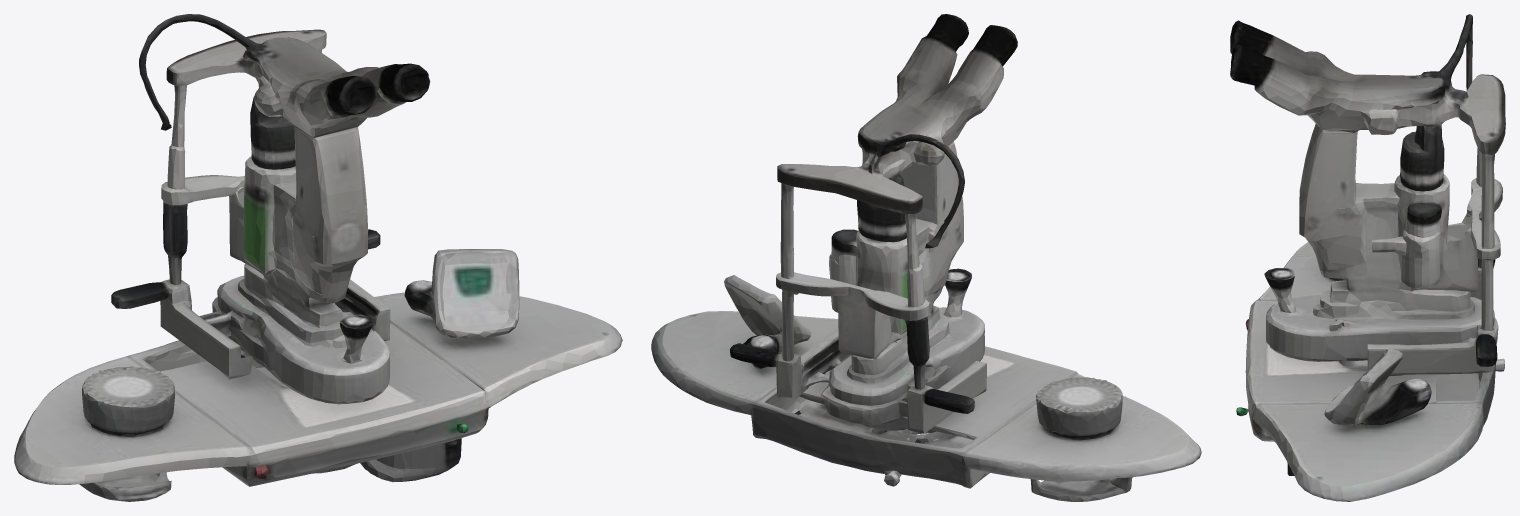
Rendered from laser.glb.
The picture shows the model from 3 angles, left to right: view 1: azimuth 30°, elevation 25°; view 2: azimuth 150°, elevation 25°; view 3: azimuth 270°, elevation 25°; orthographic projection. The views are drawn at different scales.
Visible parts, largest first — view 1: Laser; view 2: Laser; view 3: Laser.
Boxes of the visible parts, x1,y1,x2,y2 form: Laser: [14, 14, 622, 501]; Laser: [651, 14, 1201, 501]; Laser: [1230, 14, 1505, 501].
Bounding box in the file's own units: 0.6997 × 0.502 × 0.3109.
Materials: 1 (1 with a texture image).
